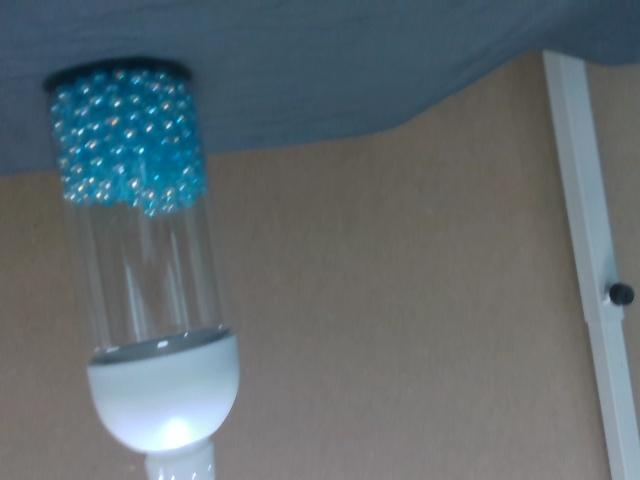blue_bottle: (44, 66, 209, 218)
